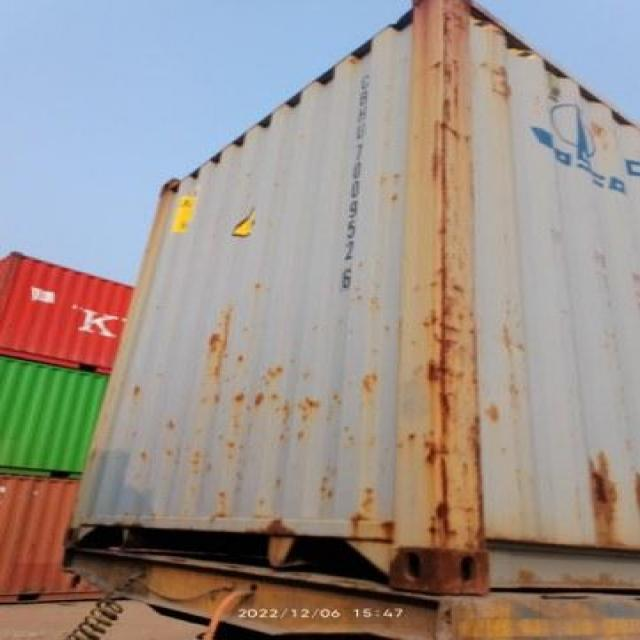Rust: (393, 0, 479, 592), (587, 444, 620, 527)
